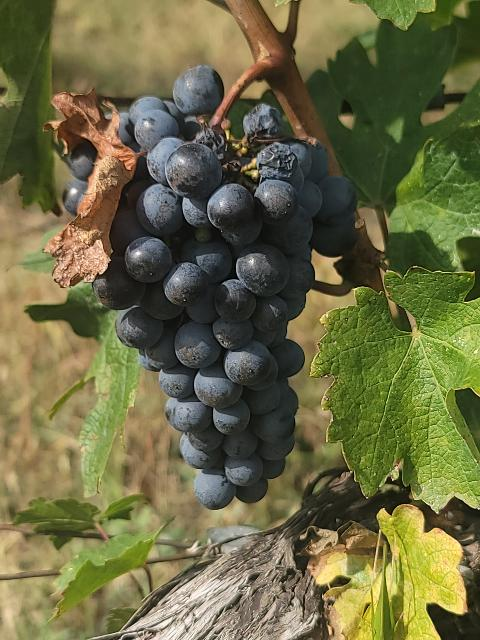grapes: (91, 65, 358, 510)
